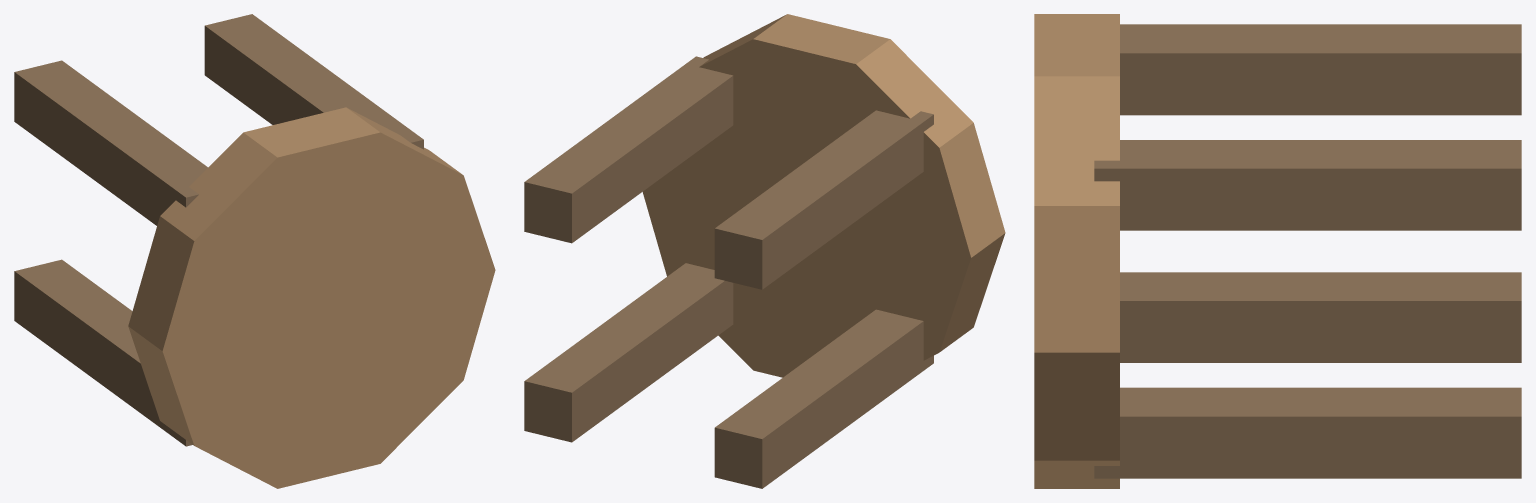
The model's file is shop_stool.glb.
The picture shows the model from 3 angles, left to right: view 1: azimuth 30°, elevation 25°; view 2: azimuth 150°, elevation 25°; view 3: azimuth 270°, elevation 25°; orthographic projection. The views are drawn at different scales.
Visible parts, largest first — view 1: seat, leg_3, leg_1, leg_4; view 2: seat, leg_3, leg_4, leg_1, leg_2; view 3: seat, leg_2, leg_4, leg_3, leg_1.
Boxes of the visible parts, <box> form: seat: <box>128,107,495,488</box>; leg_3: <box>14,60,207,225</box>; leg_1: <box>14,259,192,446</box>; leg_4: <box>204,14,423,149</box>; seat: <box>642,14,1005,377</box>; leg_3: <box>714,110,933,289</box>; leg_4: <box>524,56,733,243</box>; leg_1: <box>714,309,933,488</box>; leg_2: <box>524,263,733,442</box>; seat: <box>1034,14,1119,488</box>; leg_2: <box>1094,387,1521,478</box>; leg_4: <box>1094,140,1521,230</box>; leg_3: <box>1120,24,1521,115</box>; leg_1: <box>1120,272,1521,362</box>.
Bounding box in the file's own units: 0.56 × 0.5326 × 0.57.
